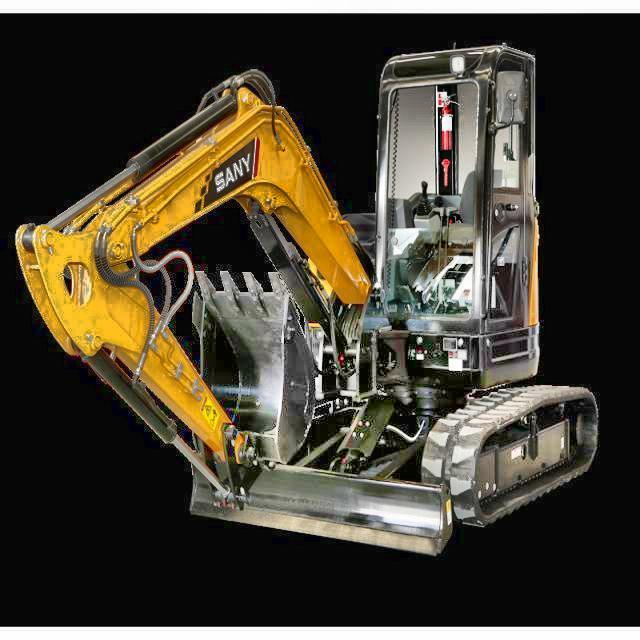excavator: (14, 41, 601, 559)
